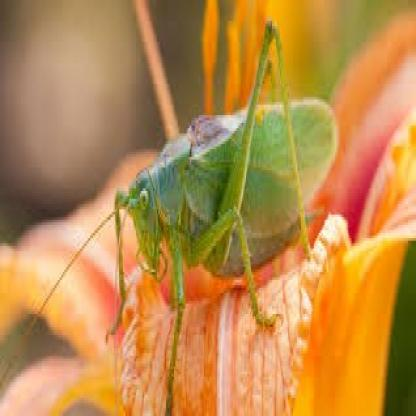grasshopper: (76, 21, 340, 386)
